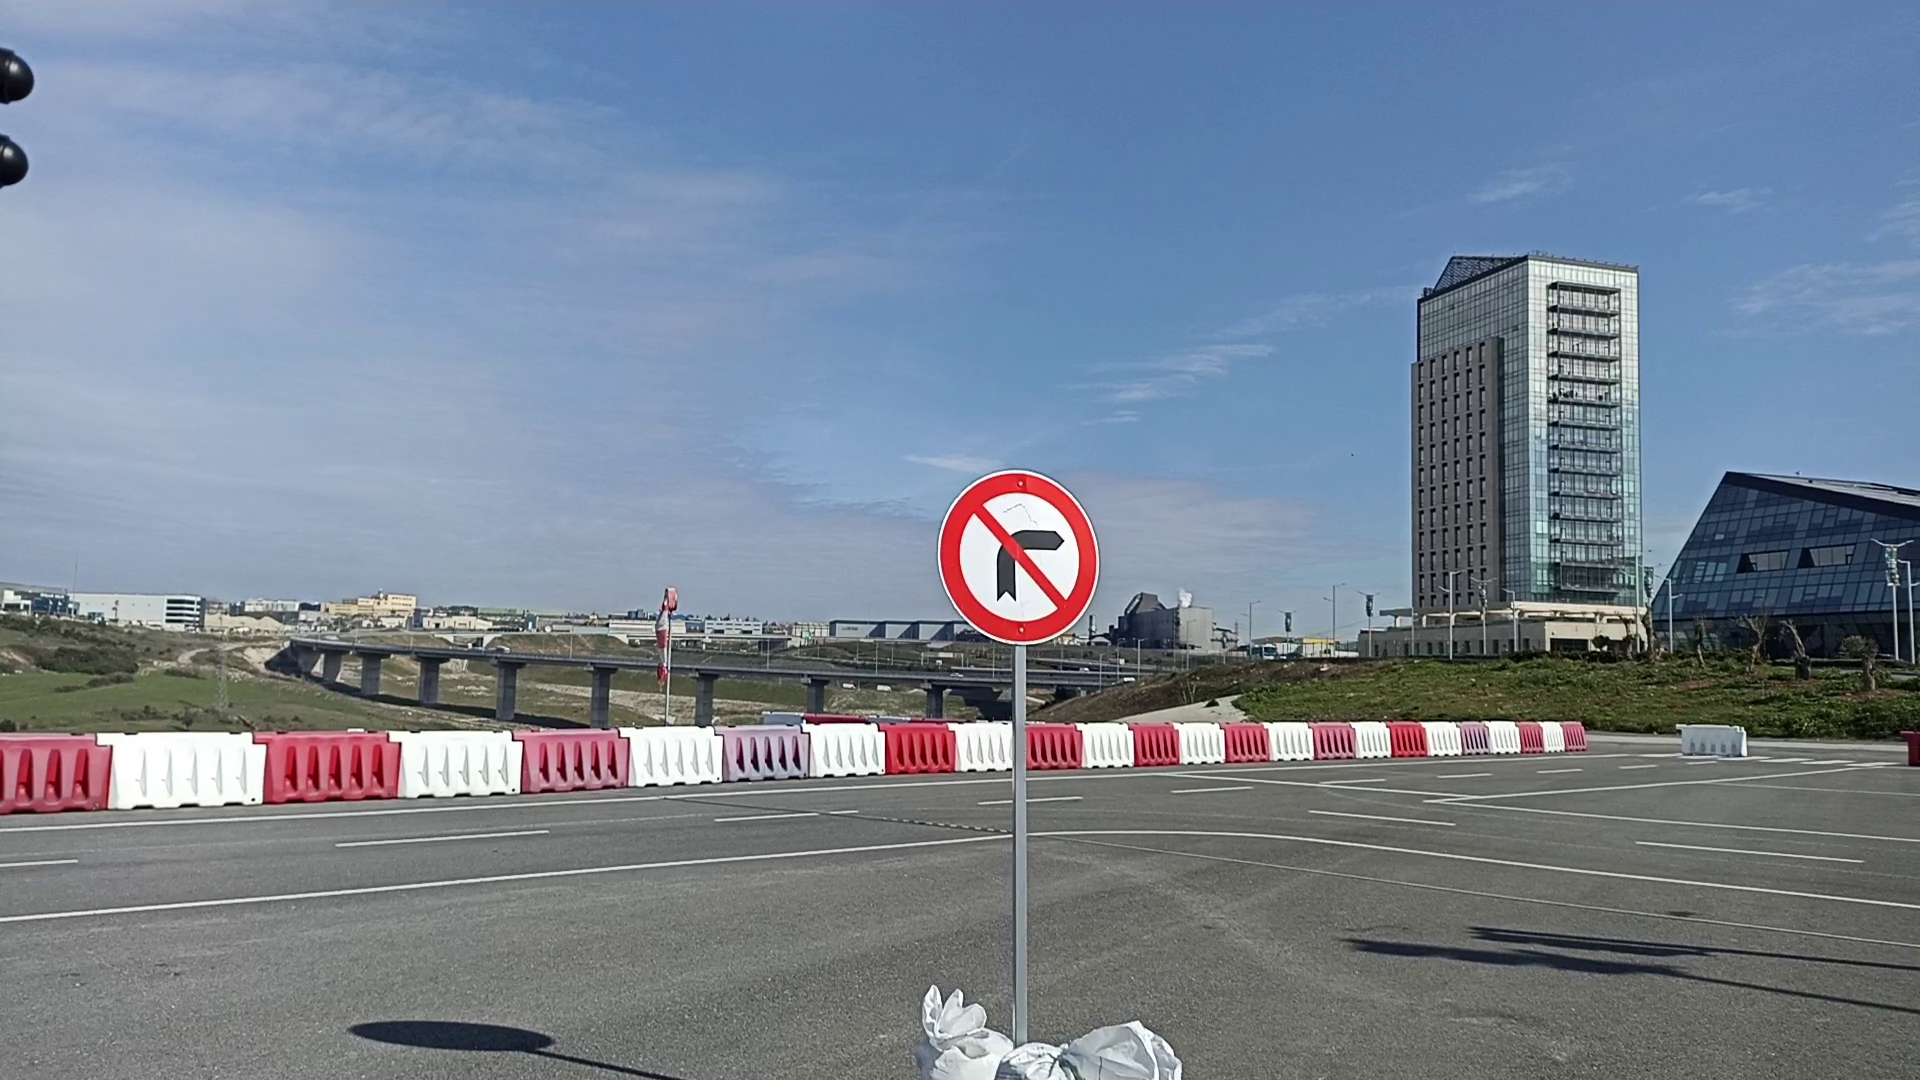noleftturn: (931, 464, 1102, 647)
